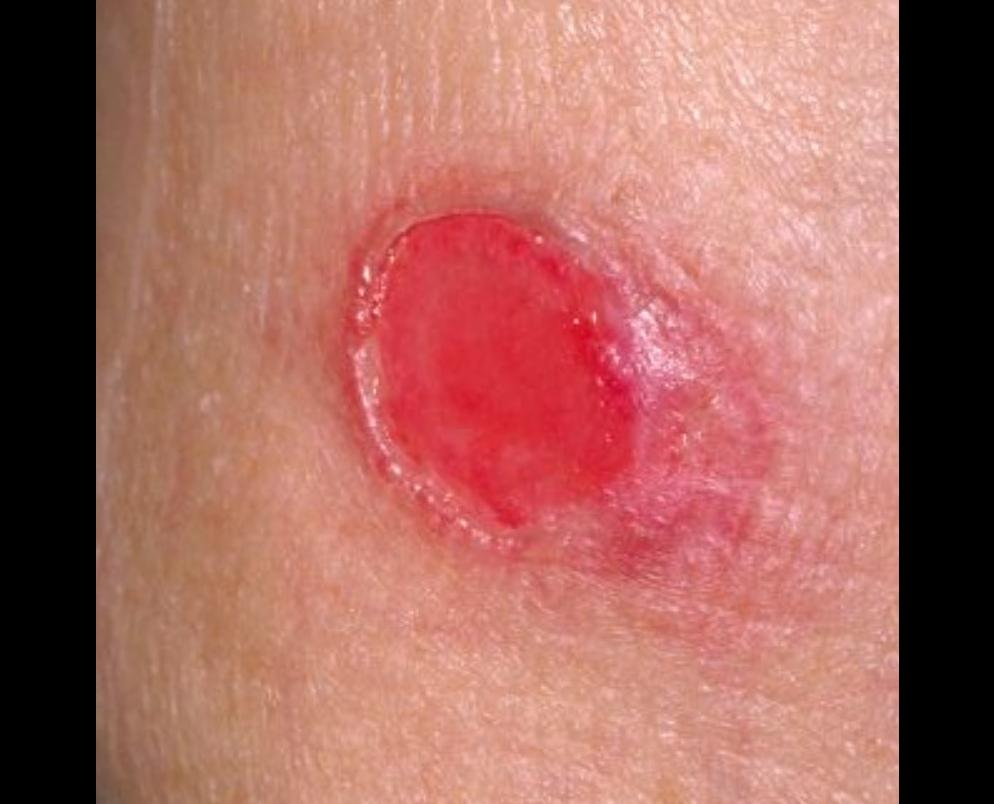Stage2: (190, 0, 809, 669)
